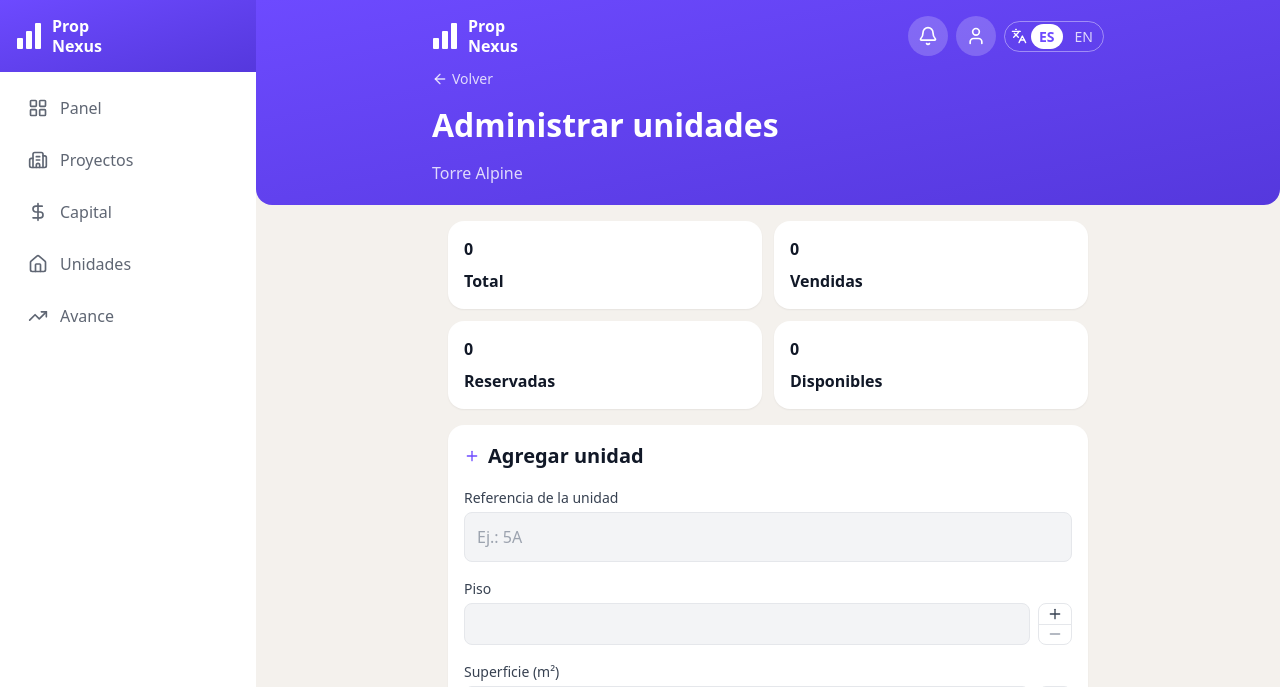
it: /developer/project/$projectId/units › alta › si crear falla muestra el error y conserva lo tipeado
The width and height of the screenshot is (1280, 687).
Type "5A" into the field labelled "Referencia de la unidad". click: point(768, 537)
box: [464,512,1072,562]
(page scrolled)
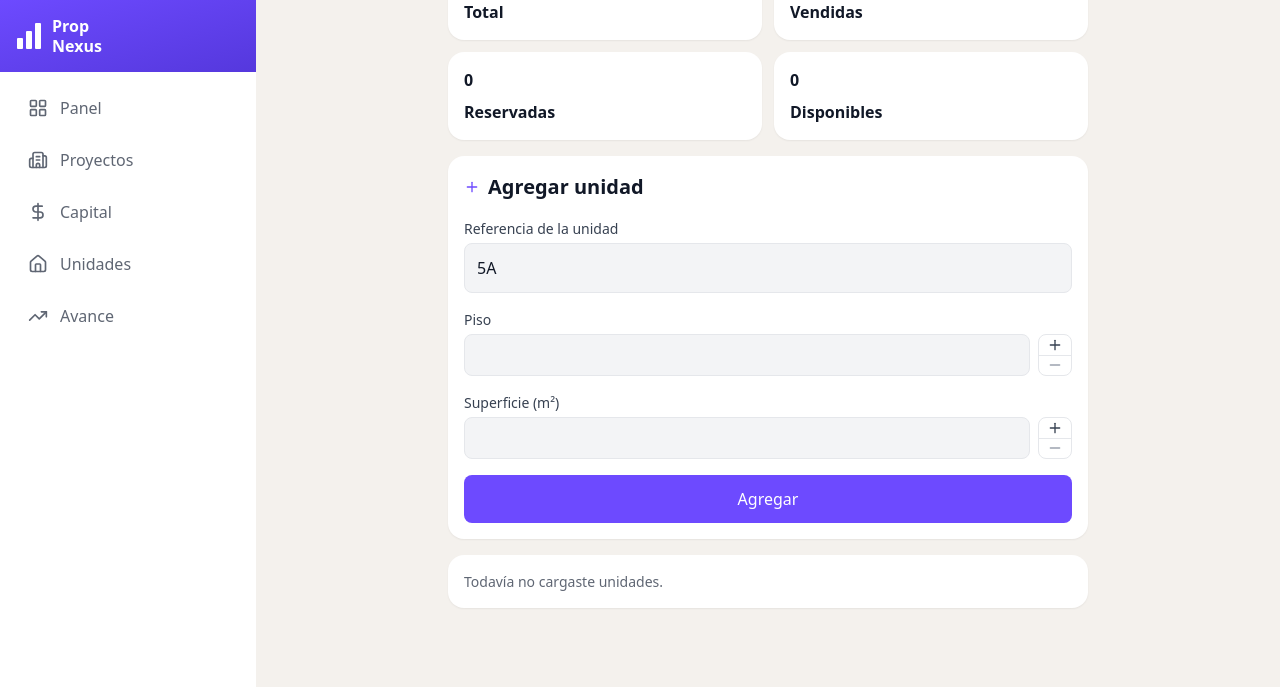
Click the button "Agregar". click: point(768, 499)
box: [464,475,1072,523]
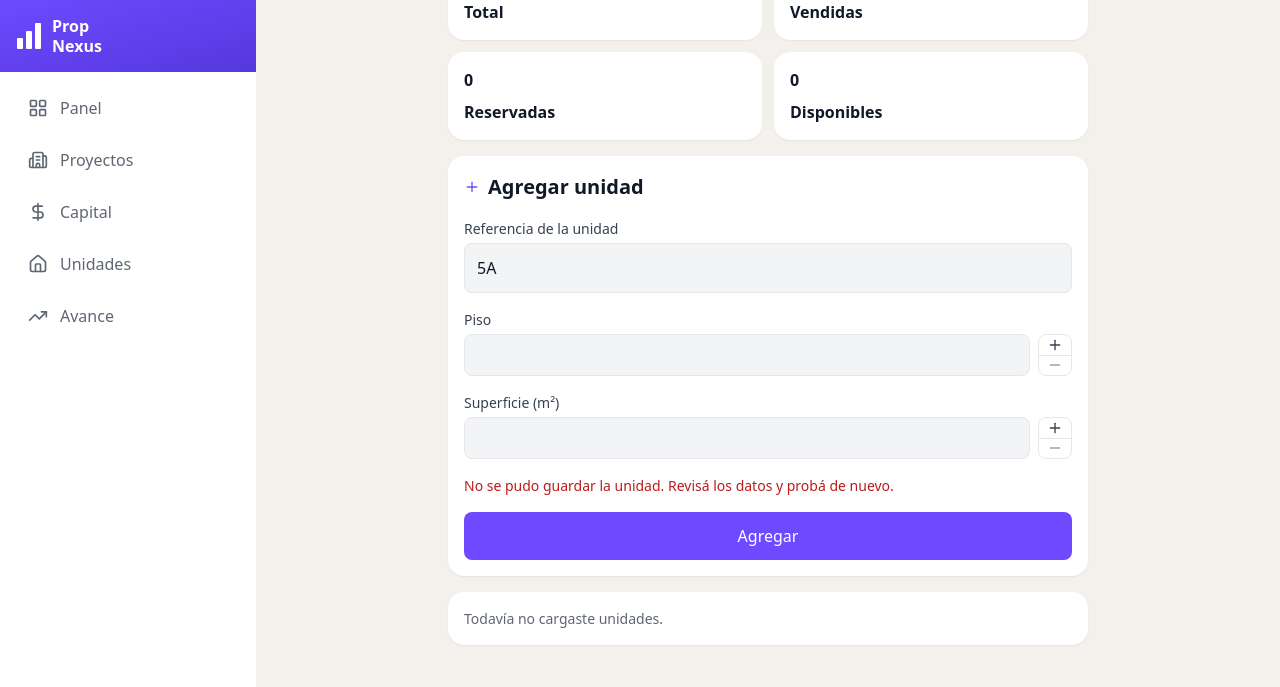
Expected: the text "No se pudo guardar la unidad. Revisá los datos y probá de nuevo." is shown, [464,476,894,495]
